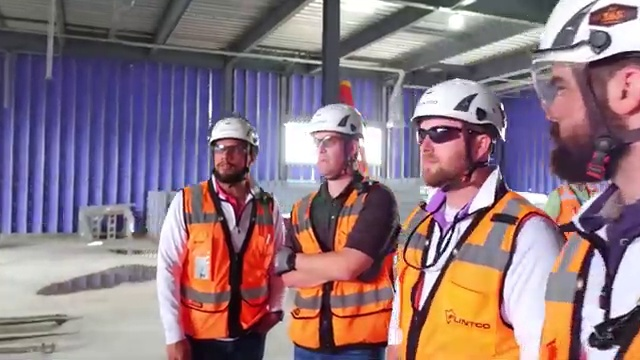helmet: (531, 1, 638, 88), (406, 77, 520, 140), (303, 98, 366, 145), (205, 115, 265, 152)
jacket: (399, 193, 534, 360), (288, 175, 404, 360), (171, 175, 280, 343), (546, 190, 640, 360)
